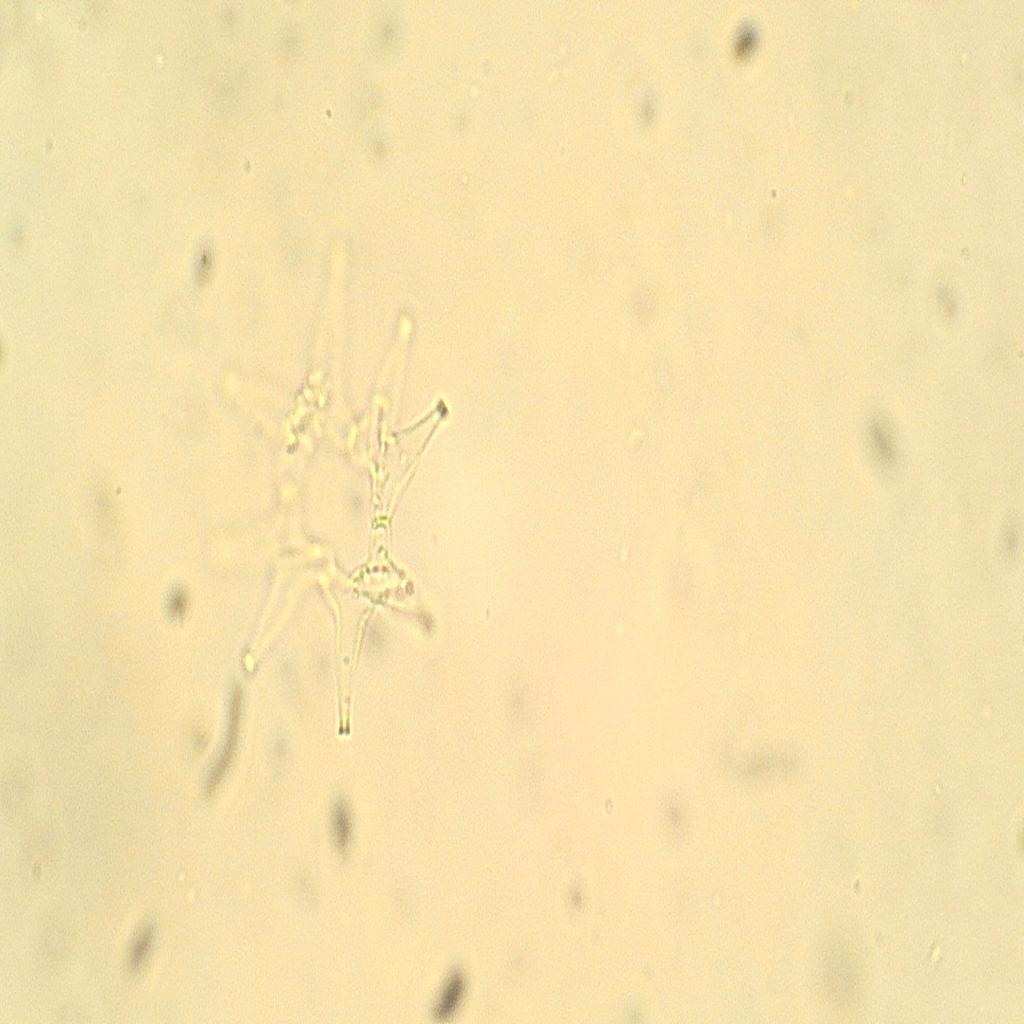Pediastrum_75TH: (189, 214, 491, 762)
